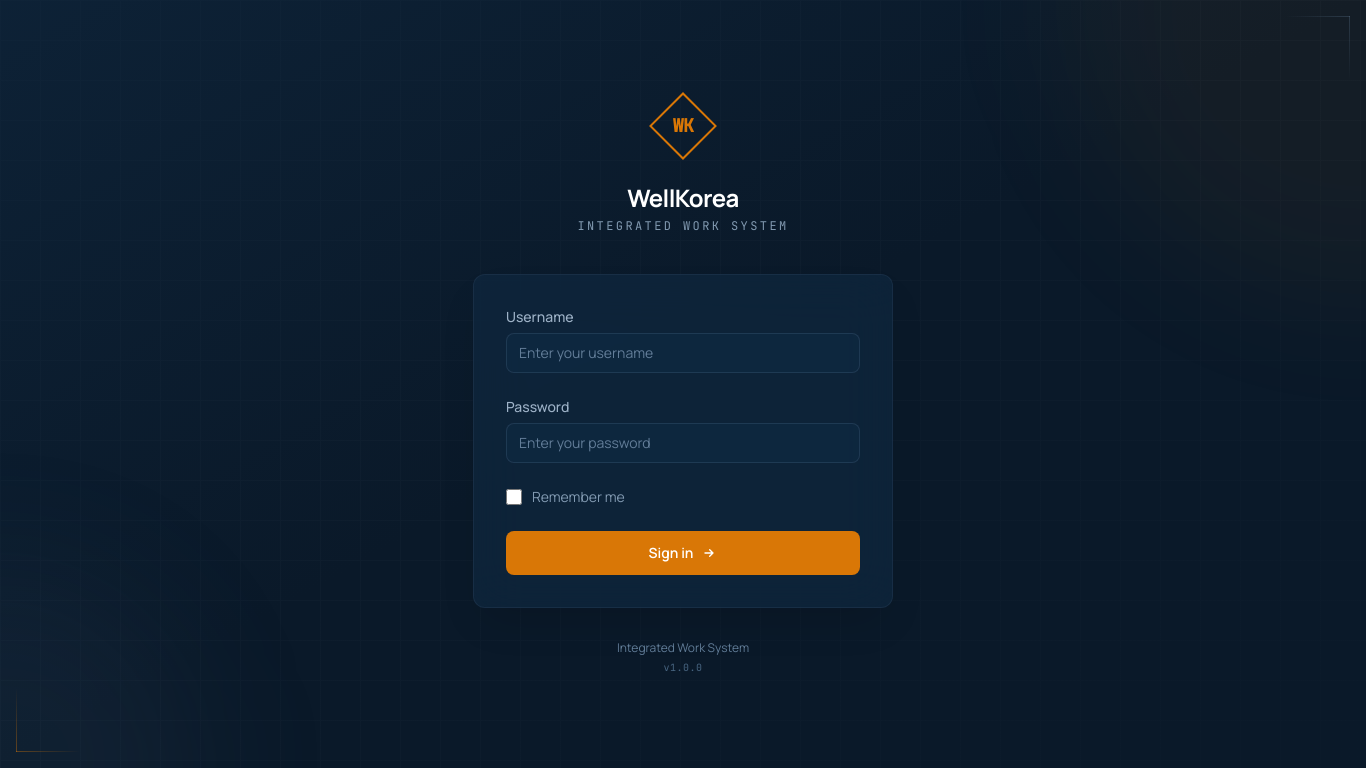
Test: LoginPage › form validation › should show error when password is empty
Note: Fill username but not password
In the field labelled "Username": (683, 352) [506,332,860,372], type "testuser"
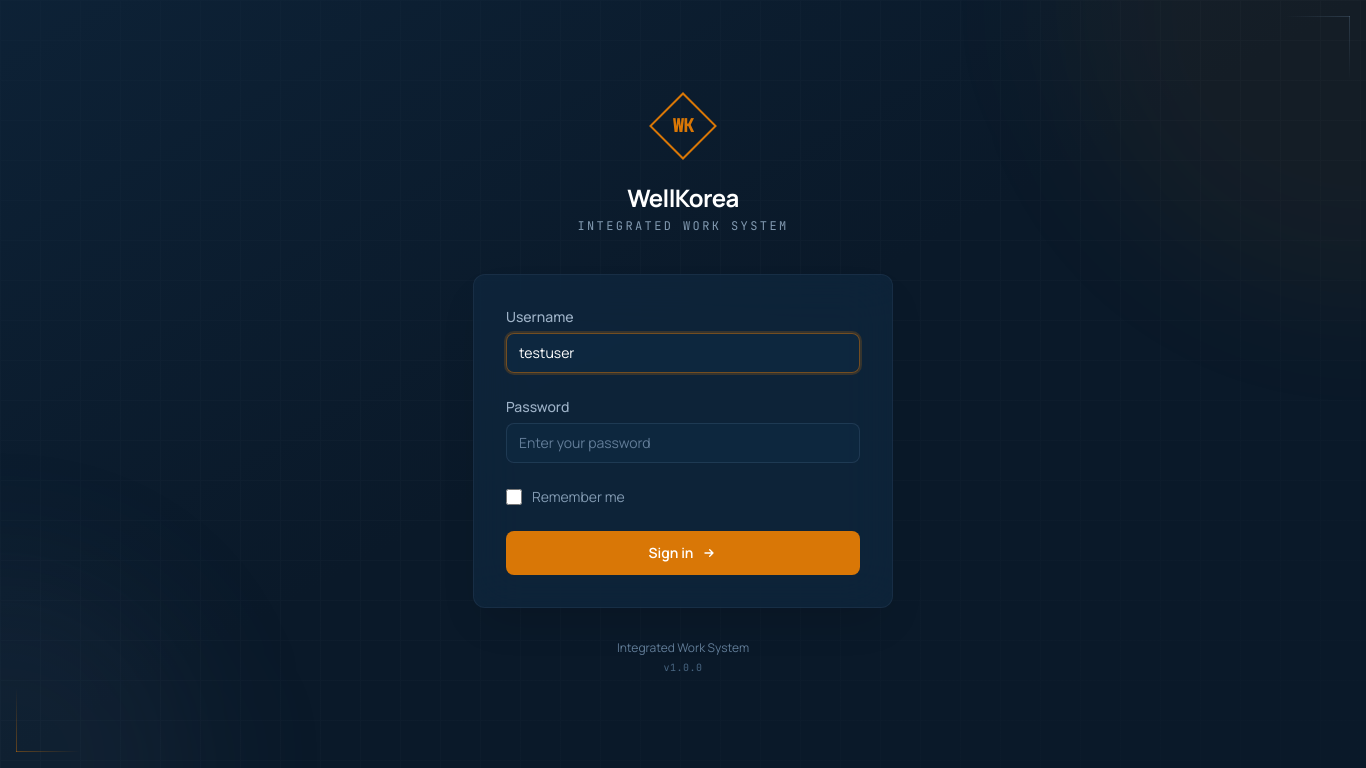
Click the button "Sign in": click(683, 552) [506,530,860,574]
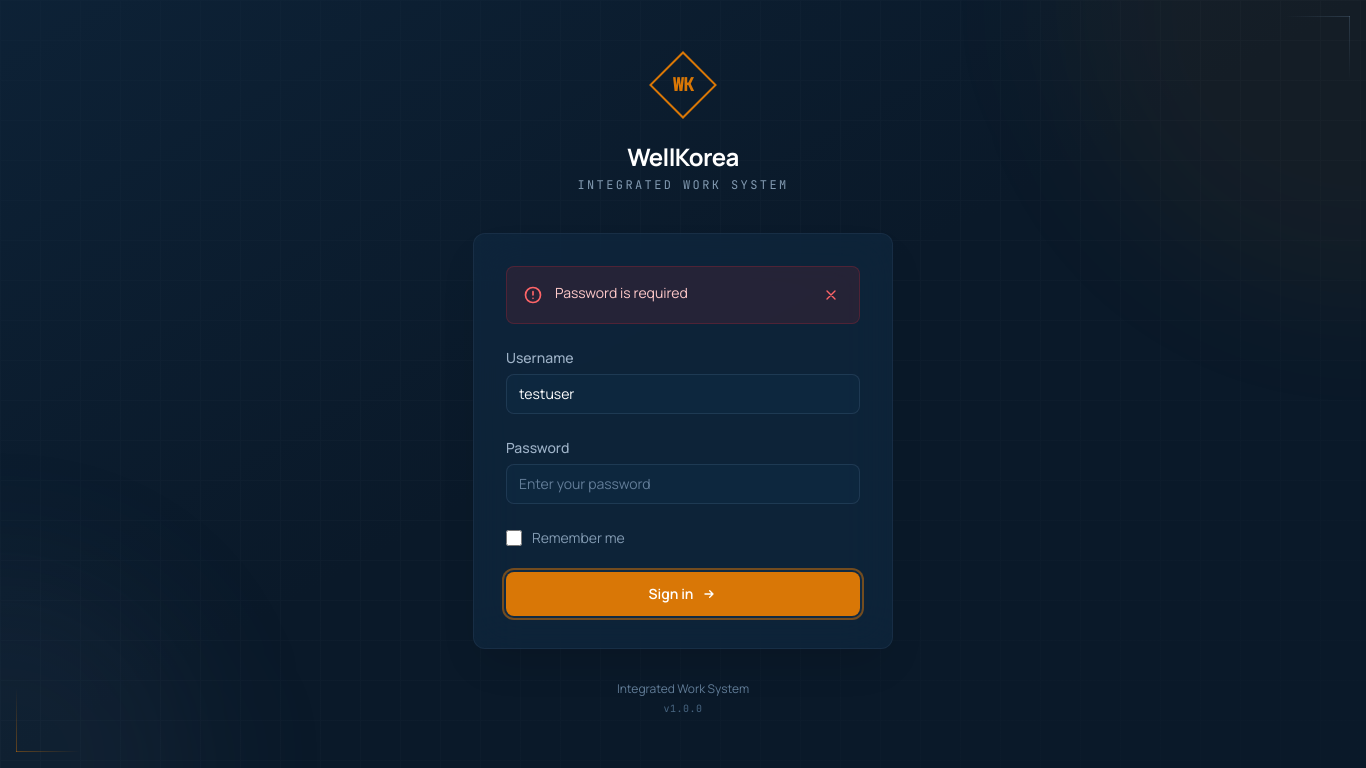
Expected: the text "Password is required" is shown, [555,282,688,302]
